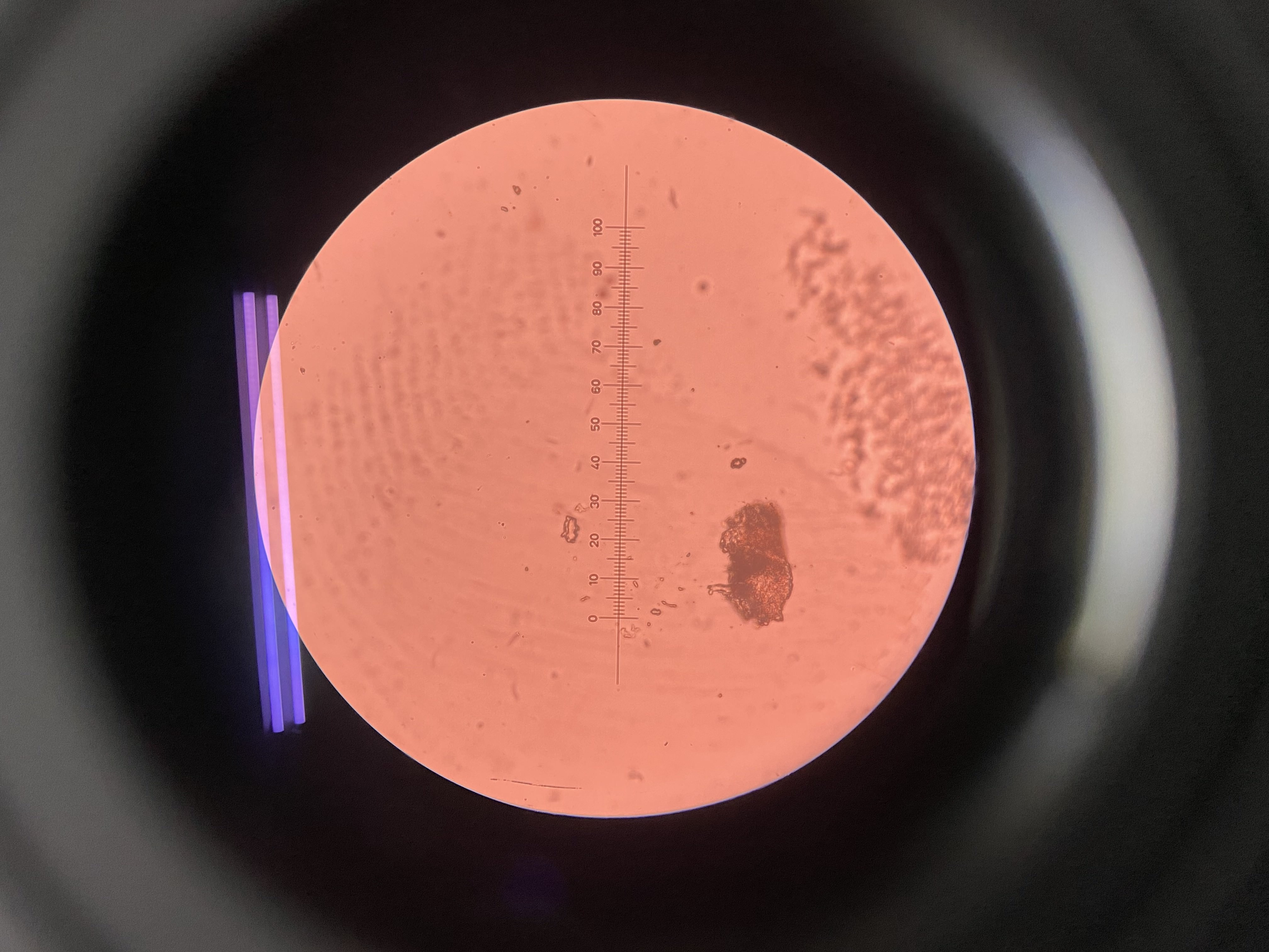not_microplastic: (785, 211, 979, 566), (711, 497, 798, 627), (559, 513, 581, 547), (730, 455, 752, 474), (690, 276, 711, 294), (669, 187, 685, 209), (511, 183, 524, 194), (656, 337, 665, 347)
